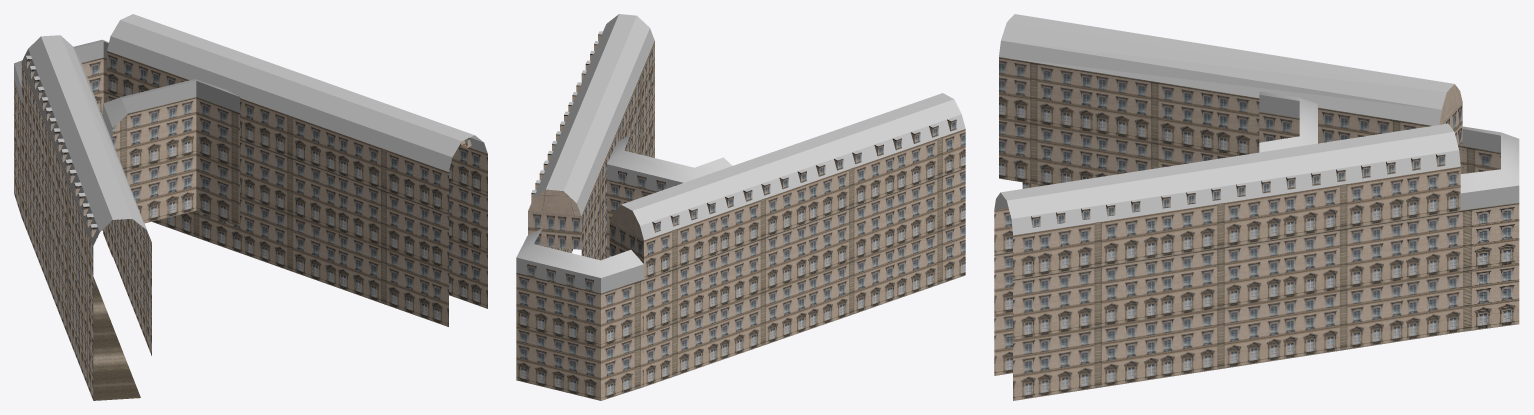
The model's file is Low_building.fbx.
3 renders of one model, left to right at view 1: azimuth 30°, elevation 25°; view 2: azimuth 150°, elevation 25°; view 3: azimuth 270°, elevation 25°, orthographic. The views are drawn at different scales.
Parts seen in each view (by area): view 1: Low_building; view 2: Low_building; view 3: Low_building.
Part boxes in pixels (x1=…): Low_building: x1=14, y1=14, x2=487, y2=400; Low_building: x1=516, y1=14, x2=965, y2=400; Low_building: x1=994, y1=14, x2=1519, y2=400.
Bounding box in the file's own units: 167536 × 73809 × 183118.
